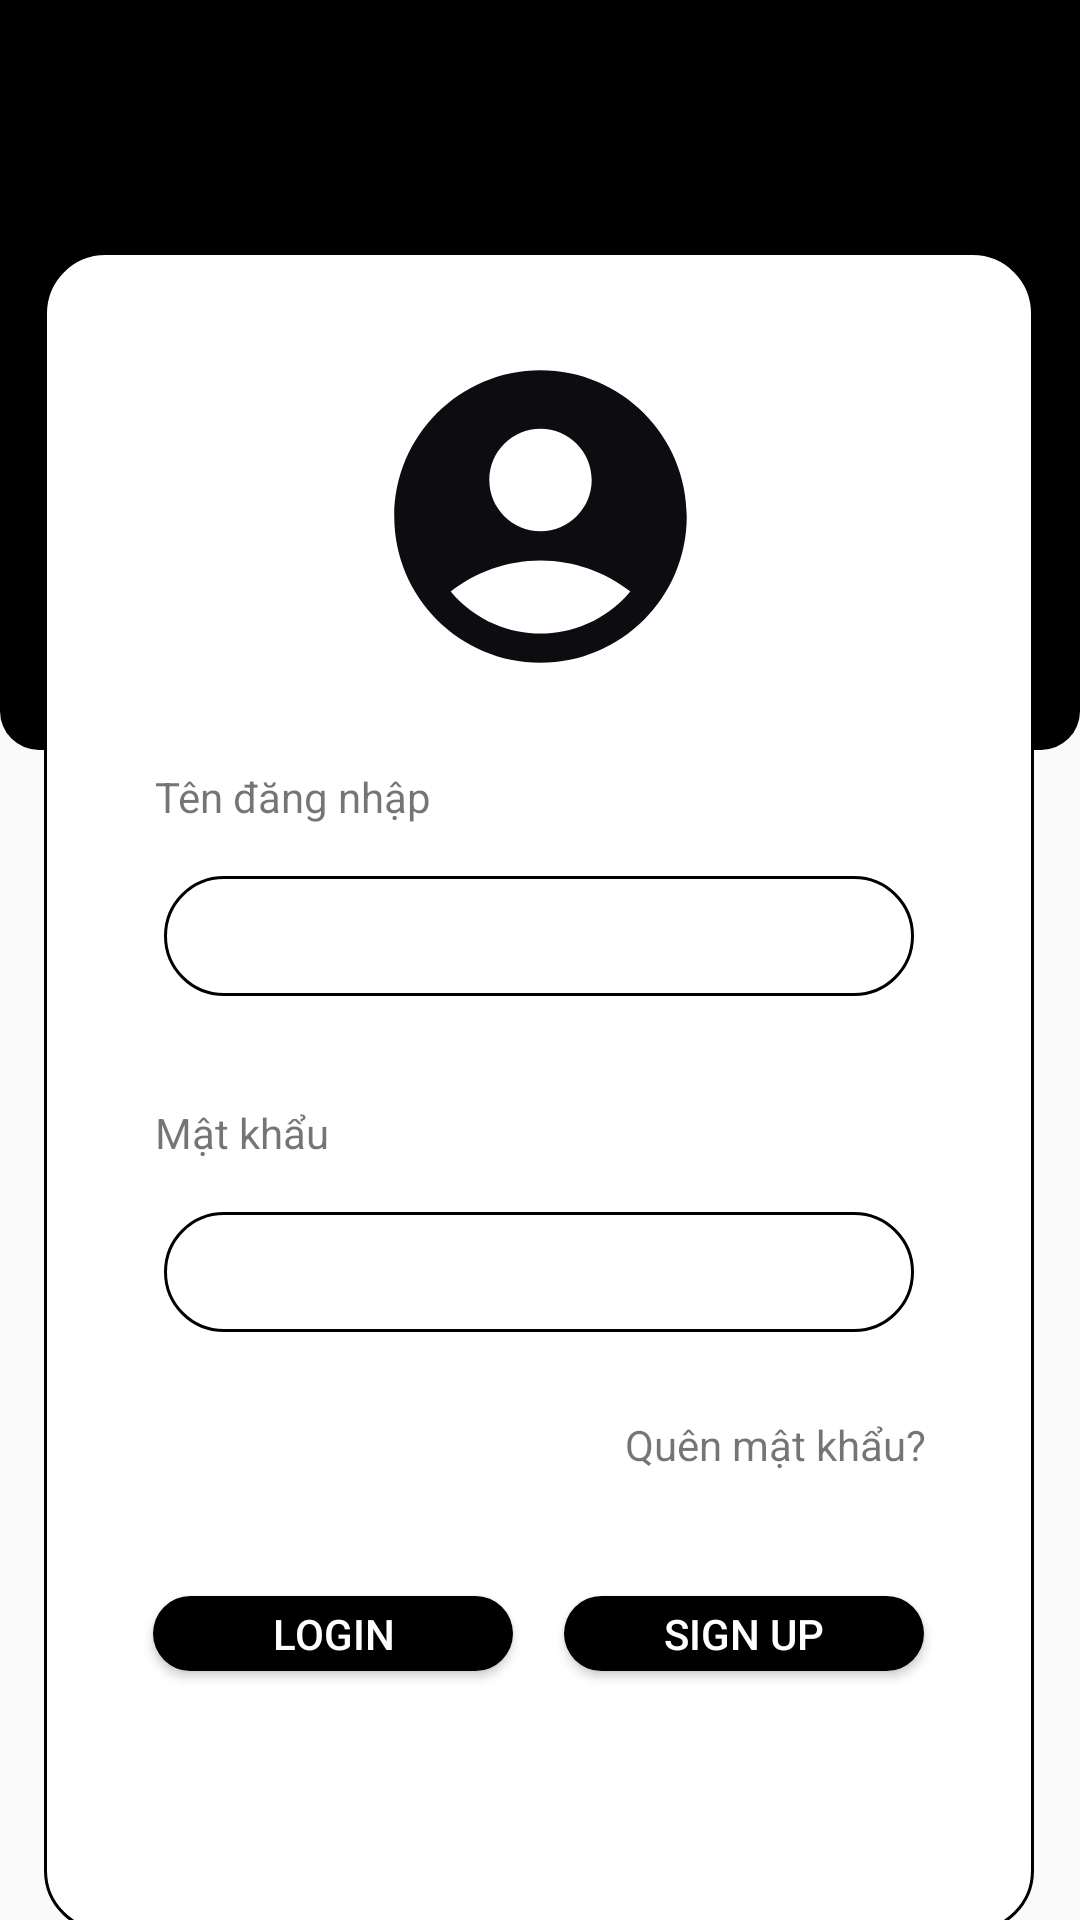

Screen size 1080x1920. Icon name, then its center in pixels as (x=x, y=y):
account: (x=540, y=516)
